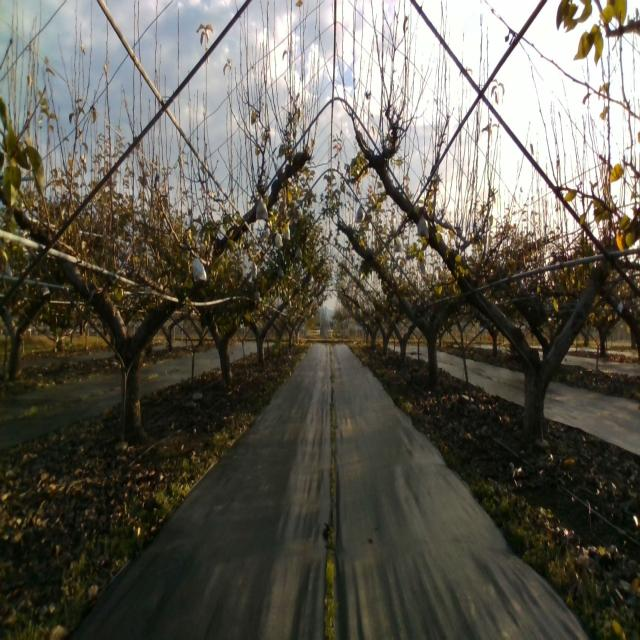pearbags: (192, 253, 207, 282), (414, 213, 430, 240), (256, 195, 268, 221)
